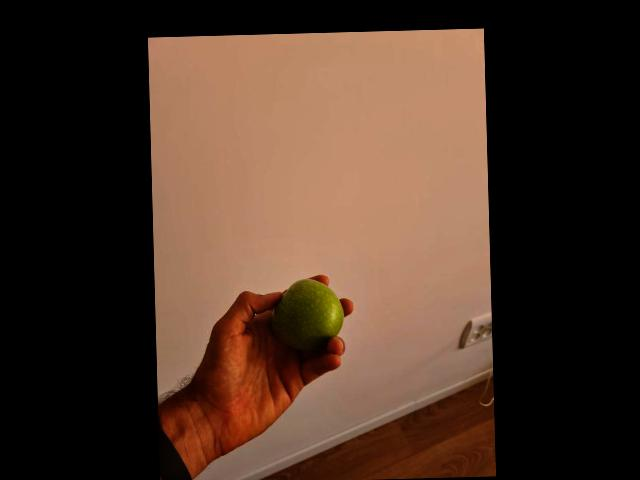apple: (274, 280, 346, 355)
